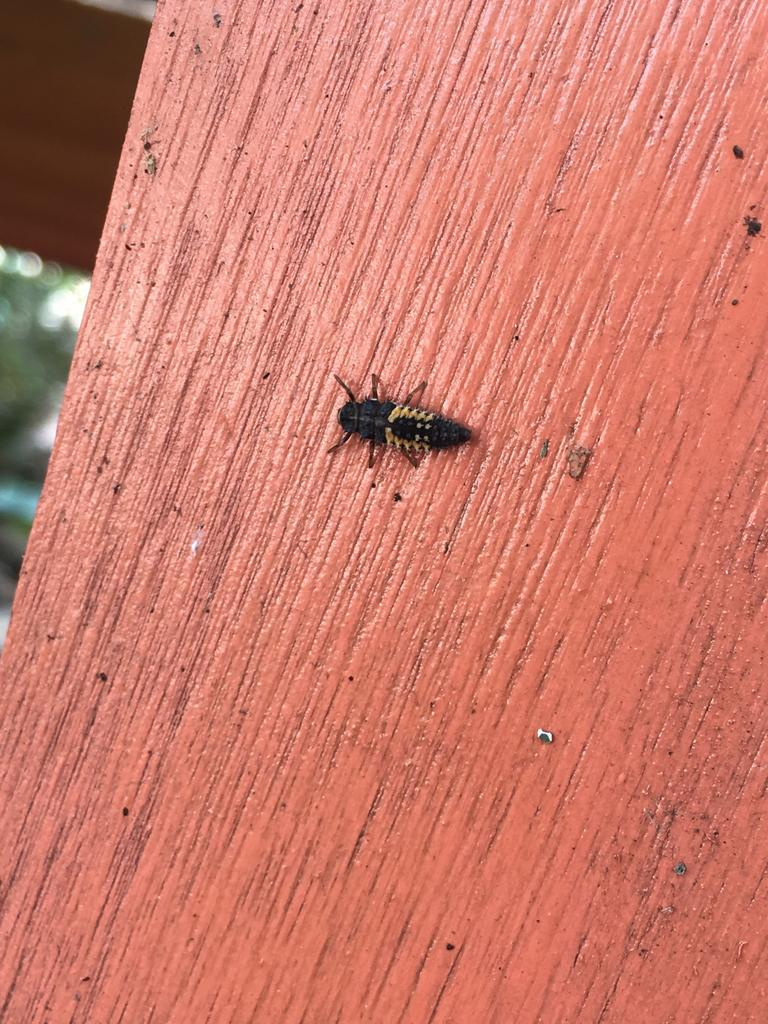ladybug: (324, 369, 481, 474)
